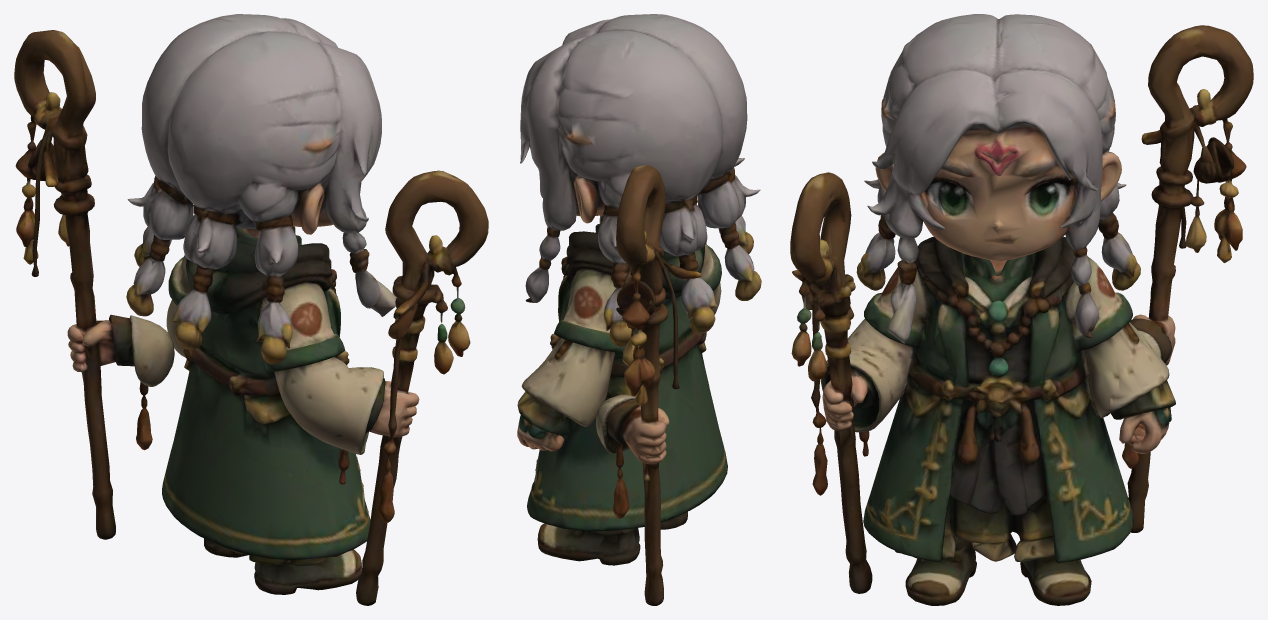
The model's file is shaman.glb.
The picture shows the model from 3 angles, left to right: view 1: azimuth 30°, elevation 25°; view 2: azimuth 150°, elevation 25°; view 3: azimuth 270°, elevation 25°; orthographic projection. The views are drawn at different scales.
Visible parts, largest first — view 1: tripo_node_2de4e848-9fb7-4ba3-bd92-7bab5e712e5e; view 2: tripo_node_2de4e848-9fb7-4ba3-bd92-7bab5e712e5e; view 3: tripo_node_2de4e848-9fb7-4ba3-bd92-7bab5e712e5e.
Part boxes in pixels (left/top/right/bottom): tripo_node_2de4e848-9fb7-4ba3-bd92-7bab5e712e5e: left=14, top=14, right=488, bottom=605; tripo_node_2de4e848-9fb7-4ba3-bd92-7bab5e712e5e: left=517, top=14, right=761, bottom=605; tripo_node_2de4e848-9fb7-4ba3-bd92-7bab5e712e5e: left=790, top=14, right=1253, bottom=605.
Bounding box in the file's own units: 0.5305 × 0.9998 × 0.7693.
Materials: 1 (1 with a texture image).
